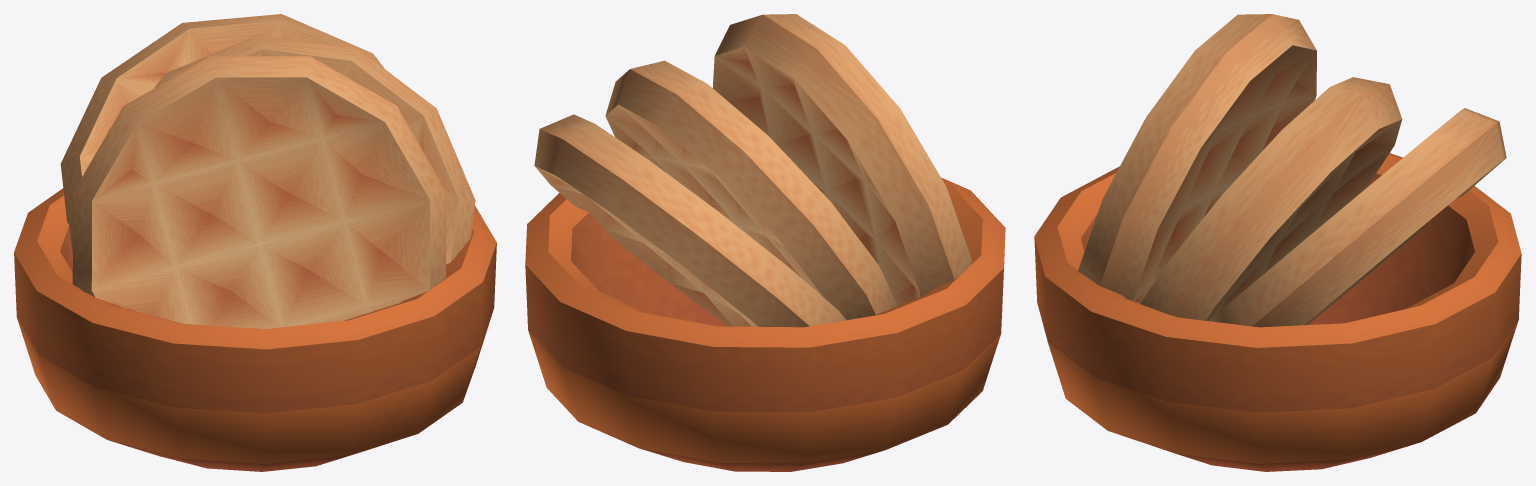
Rendered from icecream_bowl_waffles.gltf.
3 renders of one model, left to right at view 1: azimuth 30°, elevation 25°; view 2: azimuth 150°, elevation 25°; view 3: azimuth 270°, elevation 25°, orthographic.
Parts seen in each view (by area): view 1: icecream_bowl_waffles; view 2: icecream_bowl_waffles; view 3: icecream_bowl_waffles.
Part boxes in pixels (x1,y1,x2,y2): icecream_bowl_waffles: (14, 14, 496, 471); icecream_bowl_waffles: (525, 14, 1005, 471); icecream_bowl_waffles: (1034, 14, 1521, 471).
Size of the model in its own units: 0.7474 by 0.6325 by 0.7474.
1 material, 1 textured.
